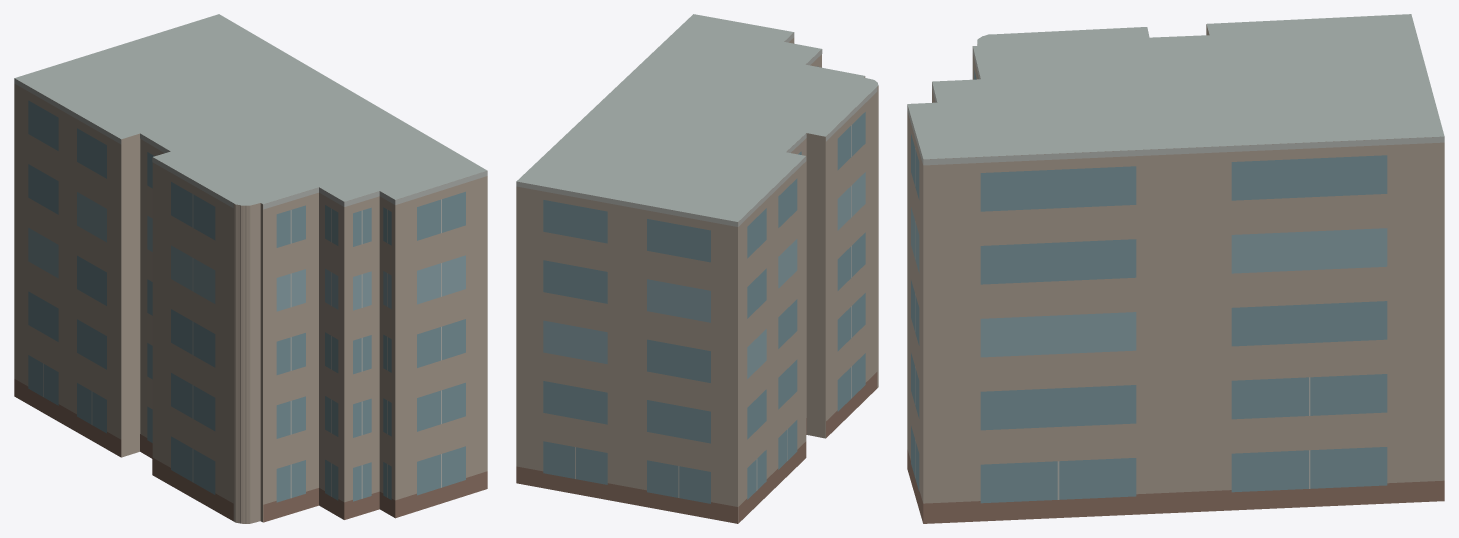
The model's file is survey-upis-32663701.glb.
The picture shows the model from 3 angles, left to right: view 1: azimuth 30°, elevation 25°; view 2: azimuth 150°, elevation 25°; view 3: azimuth 270°, elevation 25°; orthographic projection. The views are drawn at different scales.
Parts seen in each view (by area): view 1: survey-upis-32663701.tmp; view 2: survey-upis-32663701.tmp; view 3: survey-upis-32663701.tmp.
Boxes of the visible parts, bbox=[...] form: survey-upis-32663701.tmp: bbox=[14, 14, 487, 523]; survey-upis-32663701.tmp: bbox=[516, 14, 878, 523]; survey-upis-32663701.tmp: bbox=[907, 14, 1444, 523].
Size of the model in its own units: 12.59 by 14.7 by 19.65.
